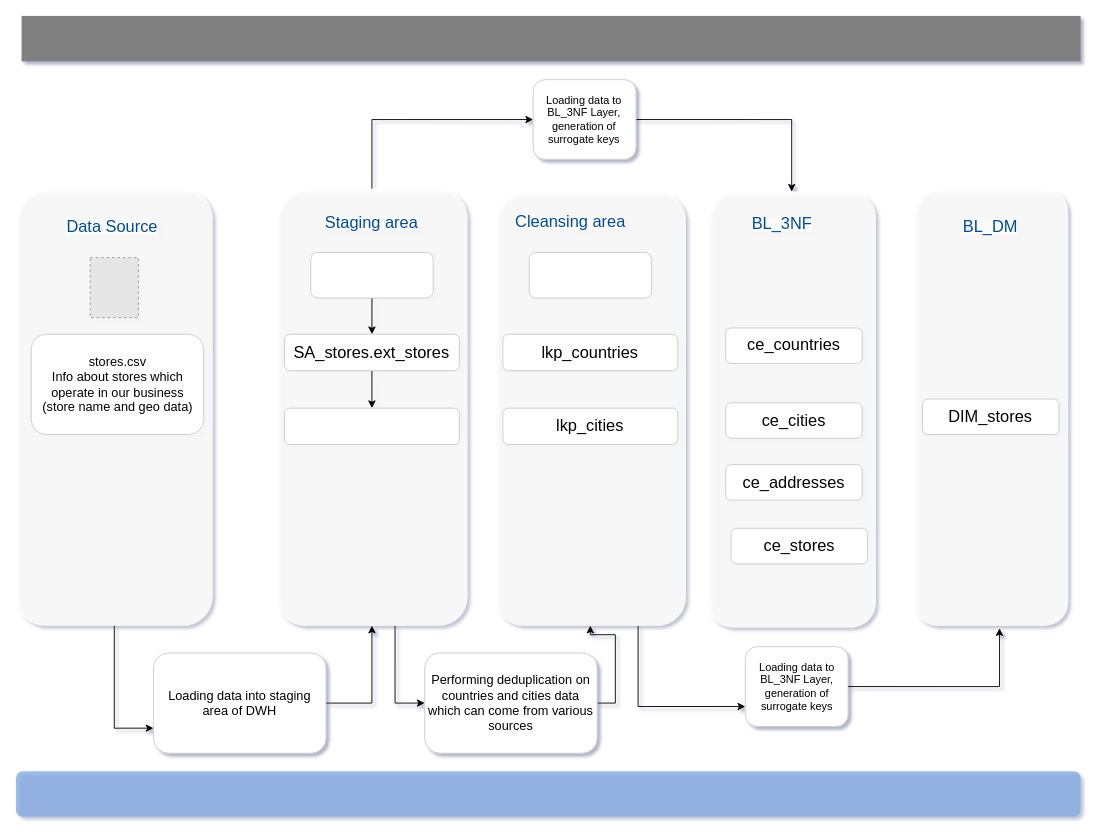
Image size: 1101x837. Some labels were removed from this diagram. Grey dashed boxes stand in for pictures. Each missing label, with the centre of its shape:
BL_CL: the point at 590,275
Data Flow Diagram of DIM_stores dimension: the point at 550,38
METADATA: the point at 547,793
SA_stores: the point at 371,275
SA_stores.src_stores: the point at 371,426
